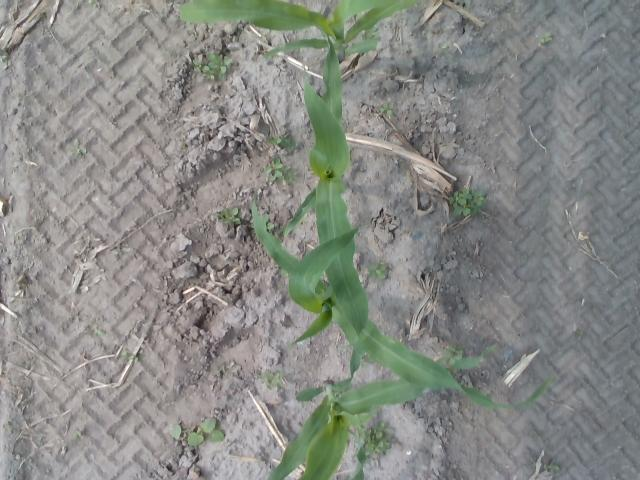Maize: (247, 195, 548, 411), (268, 350, 484, 480), (286, 34, 370, 338), (180, 0, 421, 60)
Weeds: (170, 416, 224, 445), (206, 52, 232, 77), (438, 346, 464, 365), (366, 438, 390, 458), (213, 208, 240, 224), (67, 138, 87, 157), (366, 264, 389, 280), (464, 190, 486, 206), (262, 370, 280, 389), (448, 191, 466, 207), (544, 458, 560, 475), (266, 158, 283, 174), (374, 424, 392, 438), (357, 426, 372, 442), (192, 59, 208, 73), (453, 204, 470, 216), (381, 102, 394, 116), (469, 204, 482, 217), (111, 247, 131, 255), (122, 350, 136, 361), (269, 172, 283, 182), (94, 325, 106, 336), (281, 138, 294, 148), (268, 137, 282, 146), (541, 32, 552, 42), (88, 0, 100, 9), (288, 171, 298, 180), (339, 344, 350, 352), (73, 431, 82, 440), (207, 70, 214, 80), (576, 330, 584, 338), (530, 462, 536, 470), (283, 164, 290, 170), (178, 142, 186, 147)
